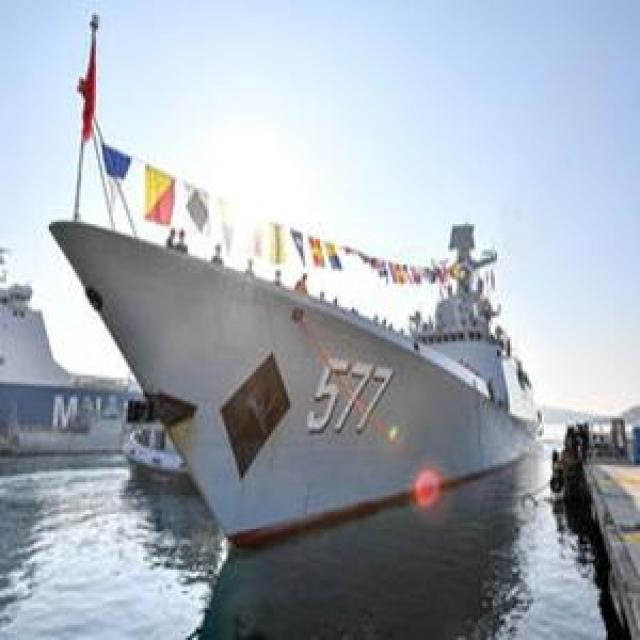navalvessels: (35, 133, 570, 532)
